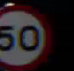Speed limit: (0, 5, 47, 70)
